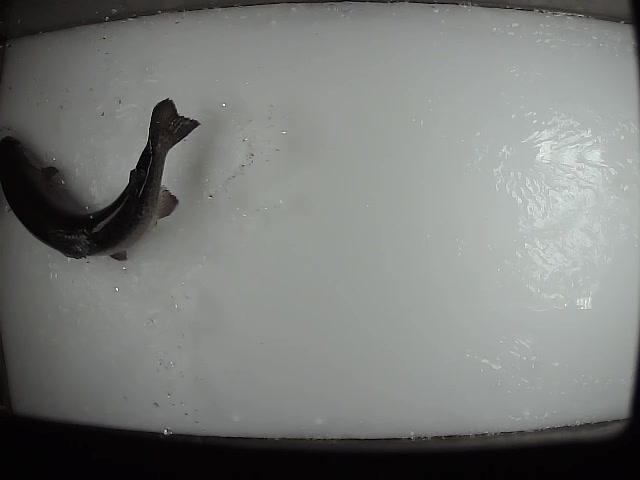fish: (1, 98, 202, 263)
